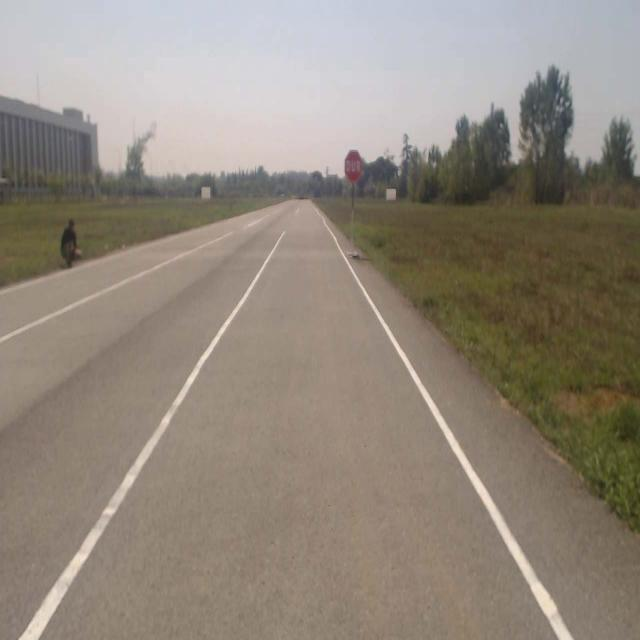dur: (344, 150, 362, 182)
